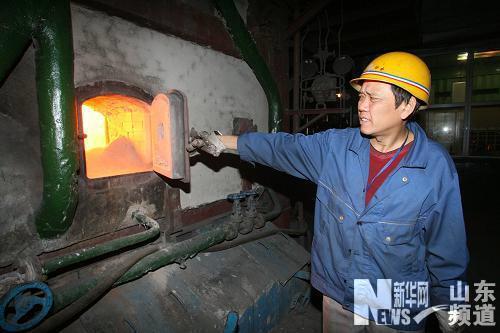gloves: (187, 127, 225, 158), (434, 309, 466, 333)
hard-hat: (349, 51, 432, 106)
person: (187, 51, 471, 333)
vest: (236, 121, 471, 331)
